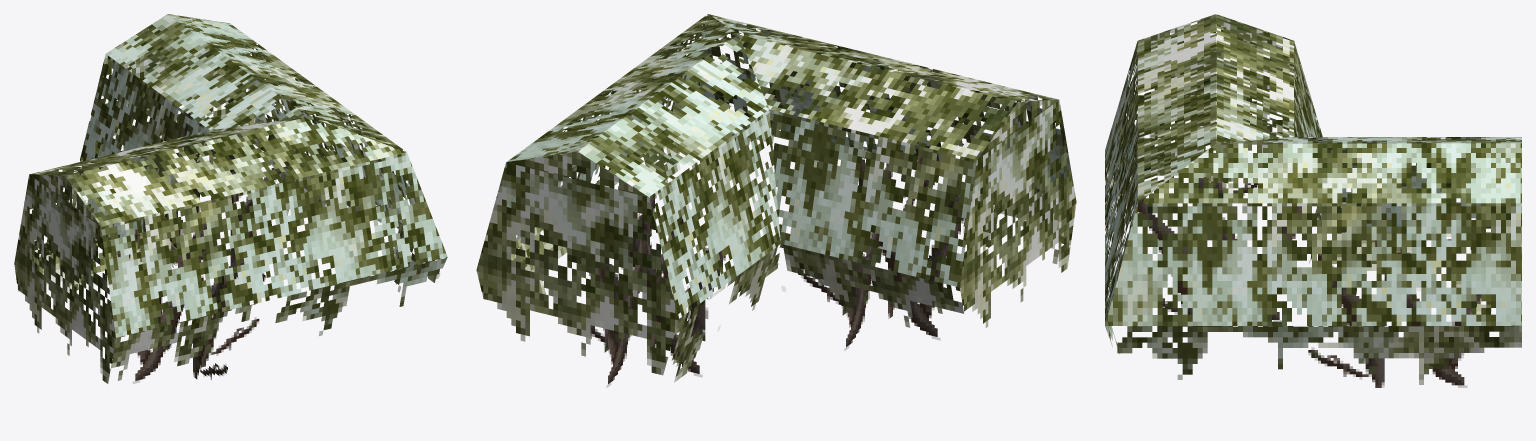
Rendered from bush_square_corner_roots_winter.glb.
3 renders of one model, left to right at view 1: azimuth 30°, elevation 25°; view 2: azimuth 150°, elevation 25°; view 3: azimuth 270°, elevation 25°, orthographic. The views are drawn at different scales.
Visible parts, largest first — view 1: bush_square_corner_roots_winter; view 2: bush_square_corner_roots_winter; view 3: bush_square_corner_roots_winter.
Part boxes in pixels (x1=…): bush_square_corner_roots_winter: x1=14, y1=14, x2=447, y2=383; bush_square_corner_roots_winter: x1=476, y1=14, x2=1076, y2=387; bush_square_corner_roots_winter: x1=1105, y1=14, x2=1521, y2=387.
Bounding box in the file's own units: 1.36 × 0.8765 × 1.35.
Materials: 2 (2 with a texture image).
